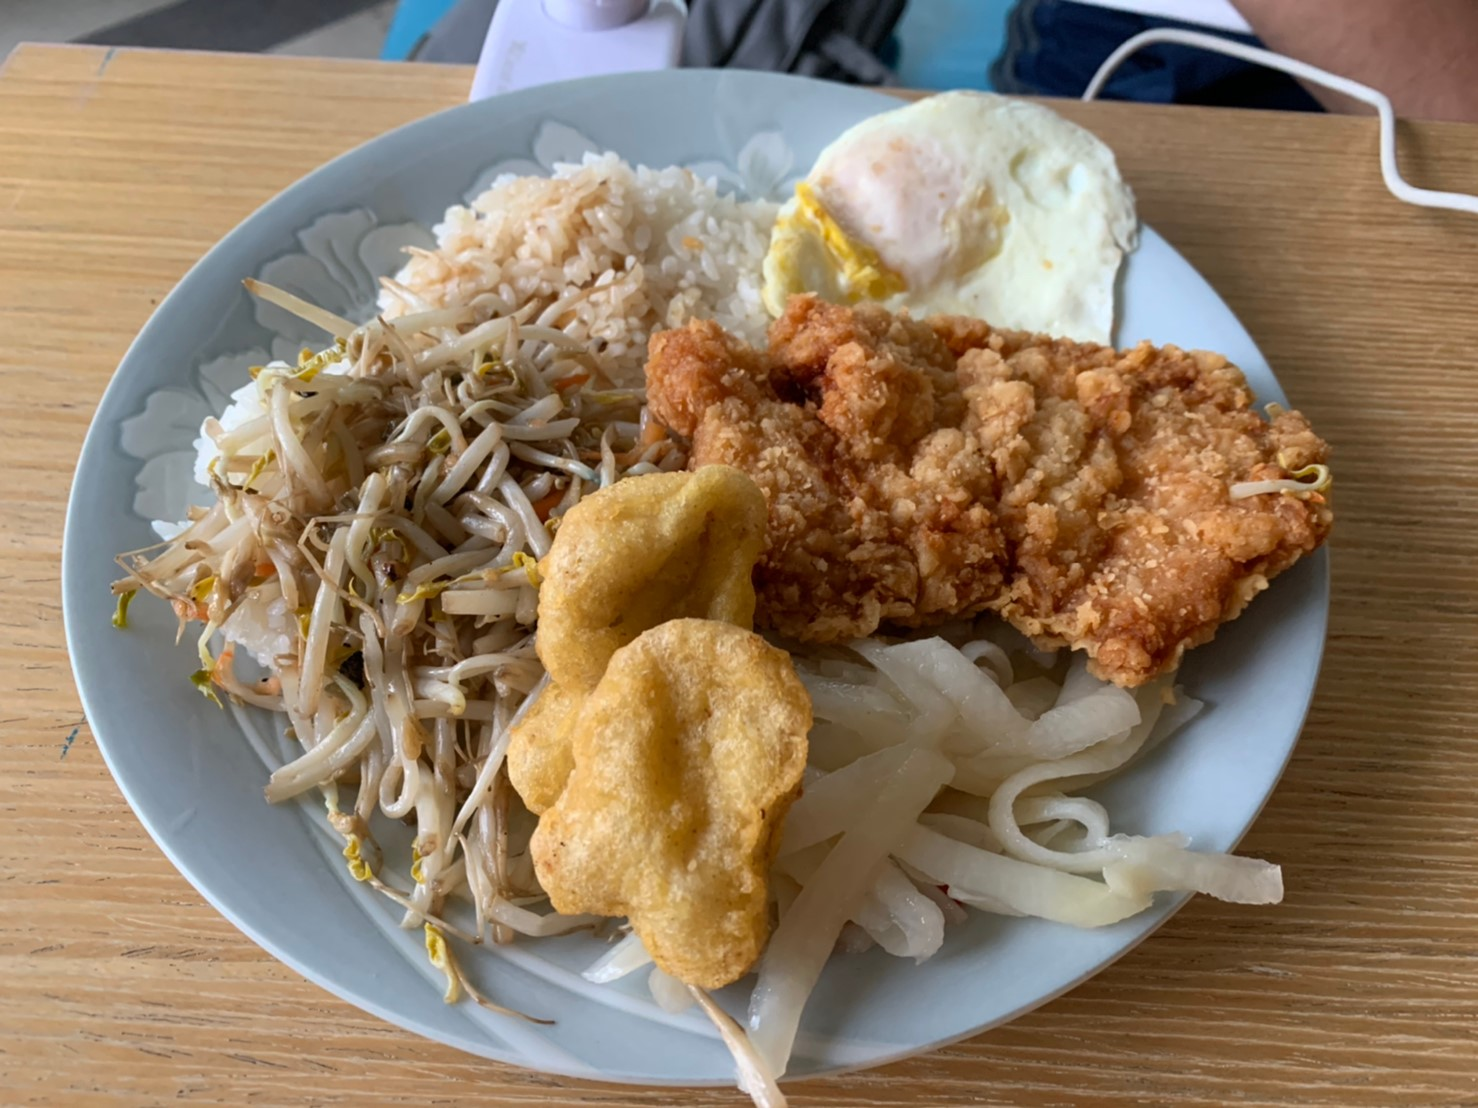chicken_nuggets: (514, 461, 800, 1002)
fried_chicken: (694, 317, 1333, 692)
fried_eggs: (755, 81, 1145, 340)
mung_bean_sprouts: (247, 347, 530, 885)
rice: (415, 170, 755, 331)
